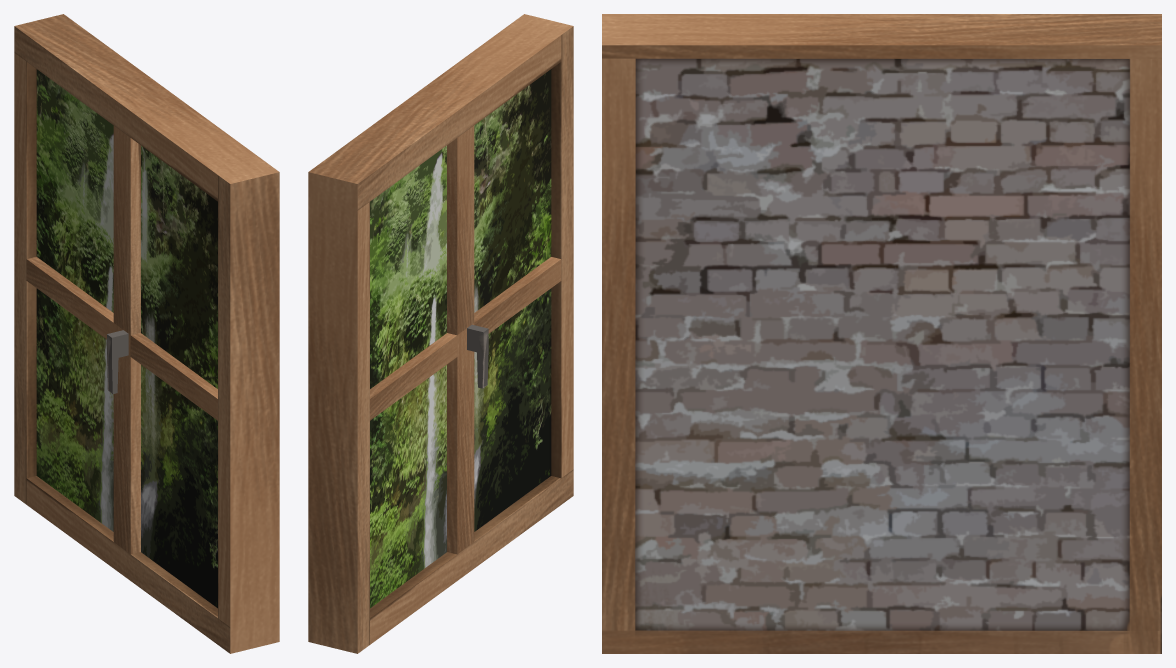
File: Window_001.FBX
3 views of the same model, side by side, from view 1: azimuth 30°, elevation 25°; view 2: azimuth 150°, elevation 25°; view 3: azimuth 270°, elevation 25° (orthographic). The views are drawn at different scales.
Visible parts, largest first — view 1: Window; view 2: Window; view 3: Window.
Boxes of the visible parts, x1,y1,x2,y2 form: Window: (14, 14, 279, 653); Window: (308, 14, 573, 653); Window: (602, 14, 1161, 653).
Size of the model in its own units: 8.83 by 60 by 50.
